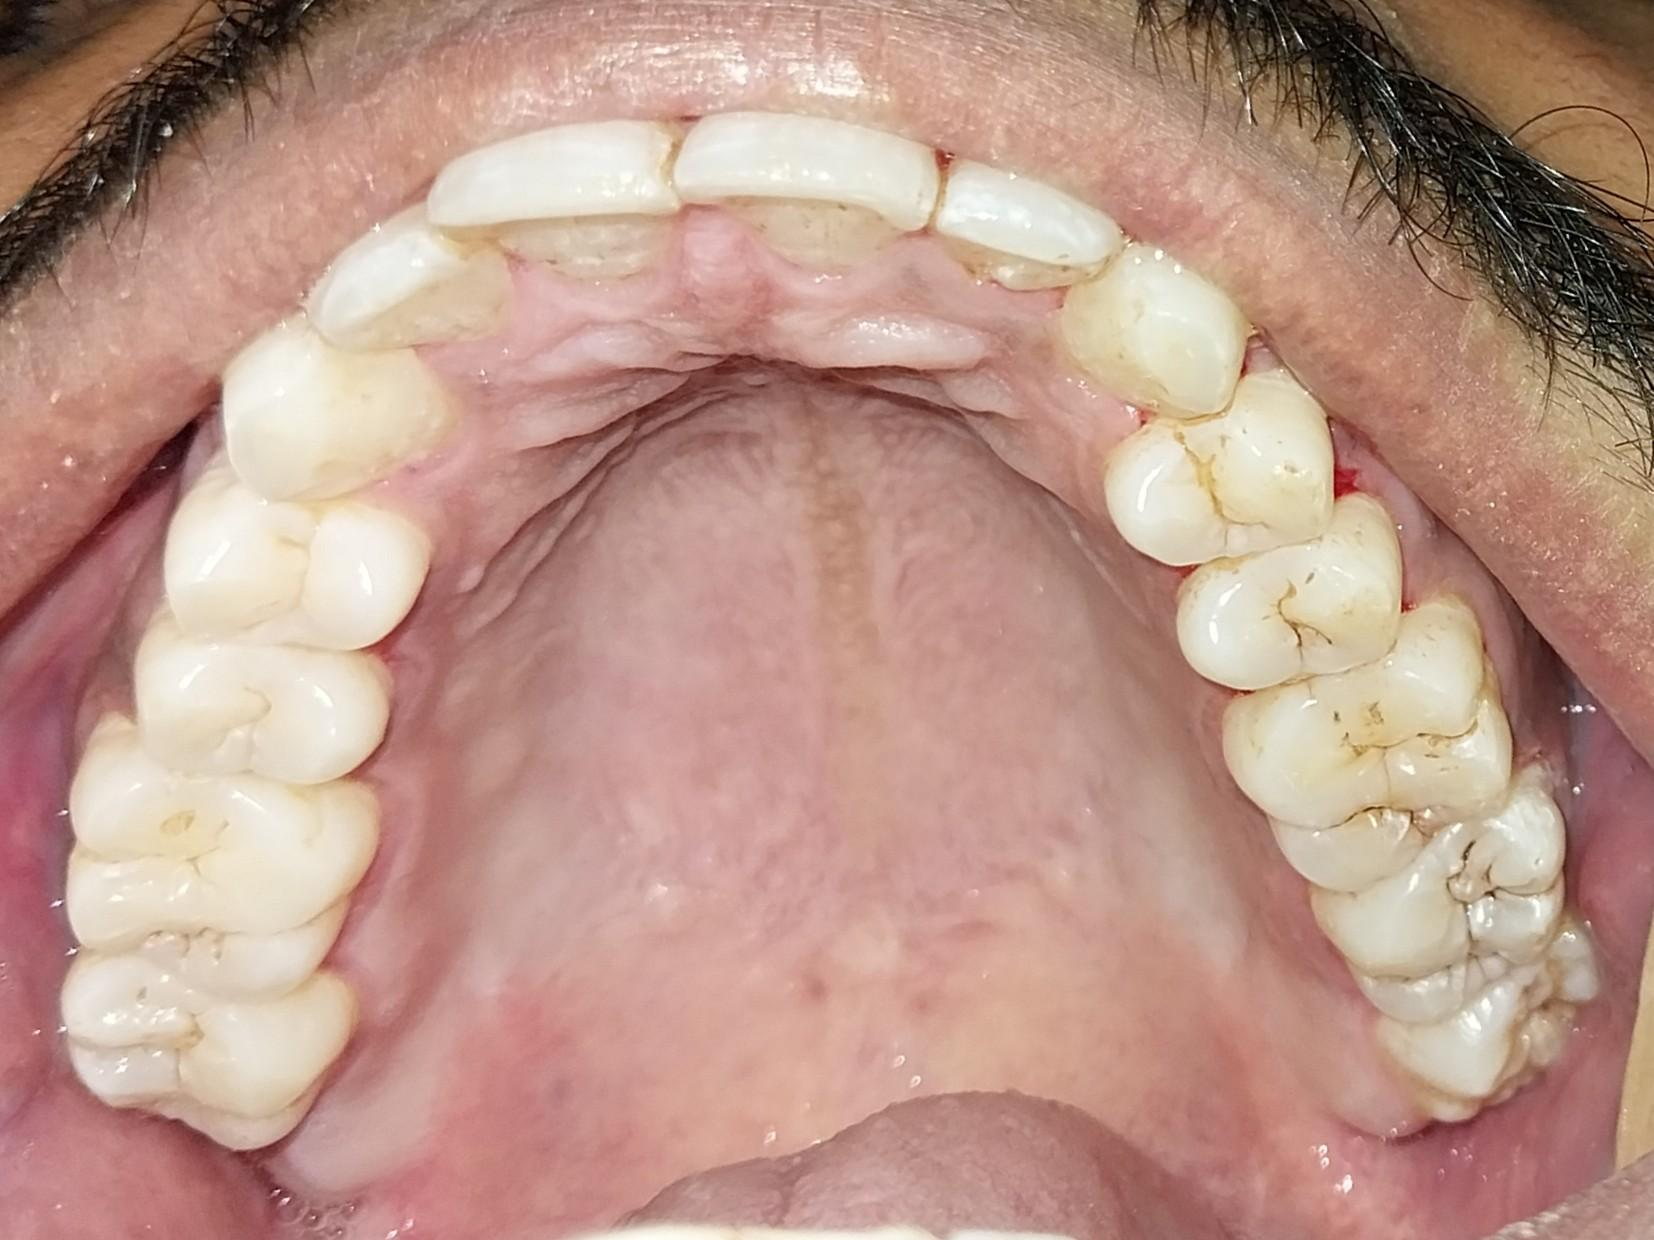D: (1214, 656, 1524, 890), (1309, 819, 1565, 1022), (1178, 534, 1412, 692)
